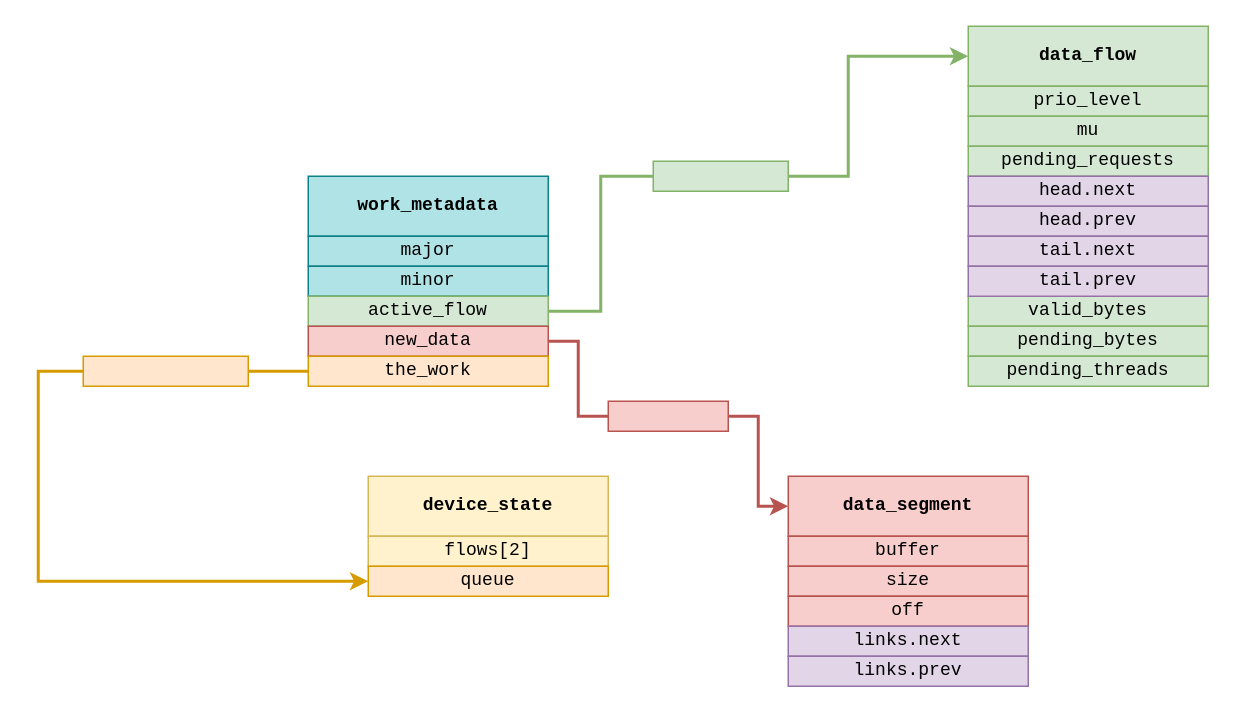
Some shapes in this 1235 by 713 pixel diagram are drawn without their labels. The shapes that lost their labels are listed below. From the top down, each one's centre as x and y in pixels, then its label:
At pixel 720 175: "related to".
At pixel 165 370: "inserted into".
At pixel 667 415: "work_with".
